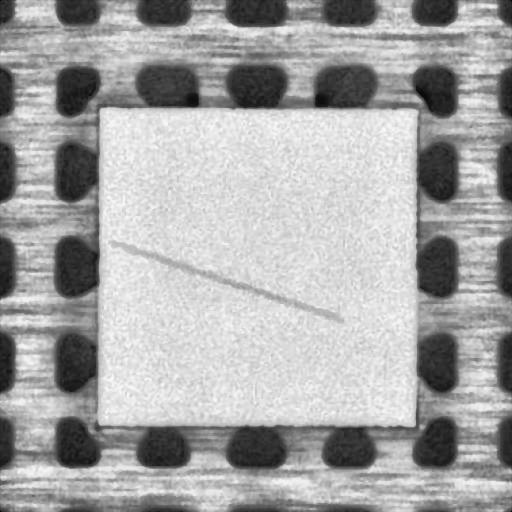DIE_CRACK: (111, 242, 338, 318)
